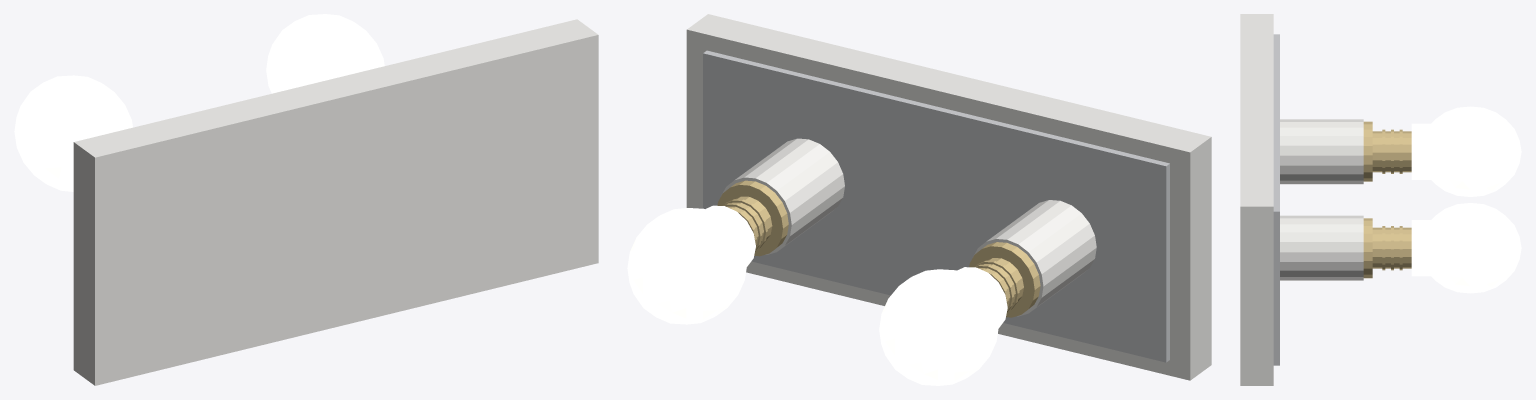
Rendered from ceiling_light.glb.
The picture shows the model from 3 angles, left to right: view 1: azimuth 30°, elevation 25°; view 2: azimuth 150°, elevation 25°; view 3: azimuth 270°, elevation 25°; orthographic projection. The views are drawn at different scales.
Parts seen in each view (by area): view 1: white_plastic, bulb_glass; view 2: steel, white_plastic, bulb_glass, brass; view 3: white_plastic, bulb_glass, brass, steel.
Boxes of the visible parts, x1,y1,x2,y2 form: white_plastic: (73,19,598,385); bulb_glass: (14,14,384,191); steel: (703,50,1169,362); white_plastic: (686,14,1211,380); bulb_glass: (627,205,1007,385); brass: (717,180,1040,317); white_plastic: (1240,14,1363,385); bulb_glass: (1411,106,1521,293); brass: (1363,121,1411,278); steel: (1273,34,1279,365).
Size of the model in its own units: 0.3 by 0.13 by 0.1849.
